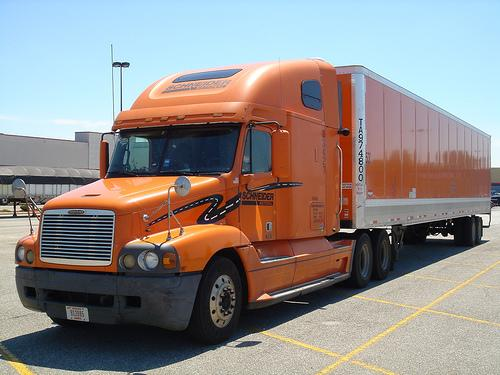truck: (14, 58, 491, 345)
